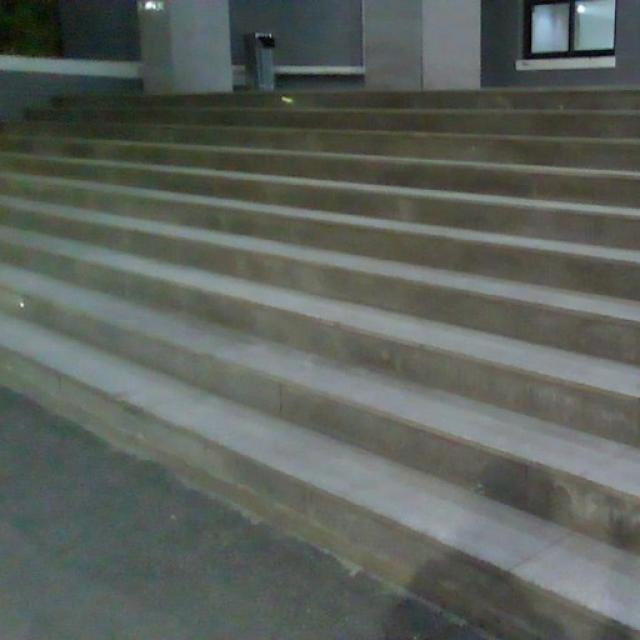Stairs: (0, 84, 639, 638)
